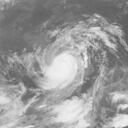cyclone: (35, 52, 83, 94)
